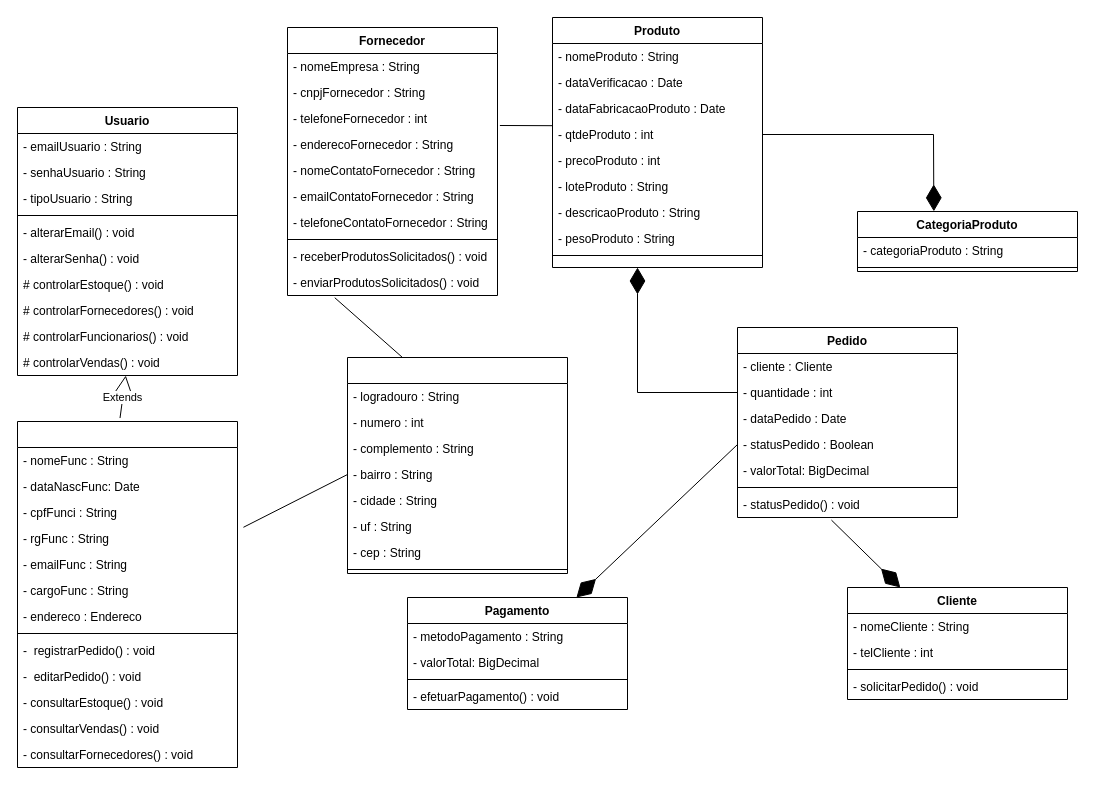
Some shapes in this 1095 by 788 pixel diagram are drawn without their labels. Here are the shapes that lost their labels. From the top down, the box of each, then its label:
(346, 356, 568, 574): Endereco
(16, 420, 238, 768): Funcionario
